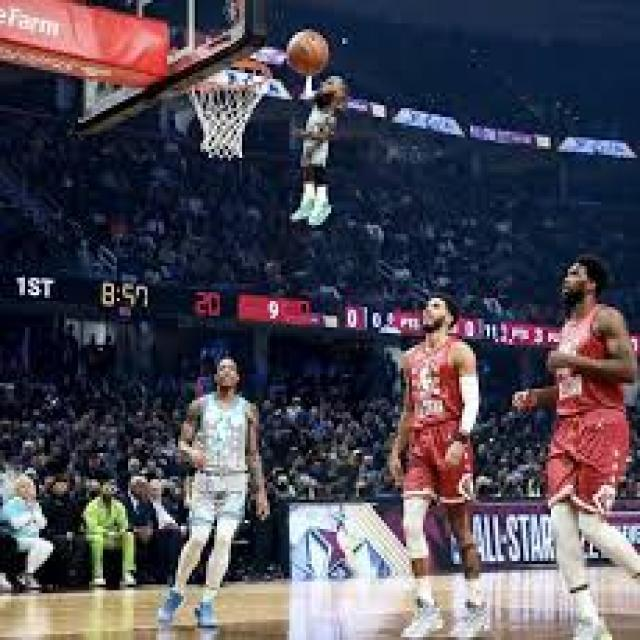rim: (286, 26, 328, 73)
